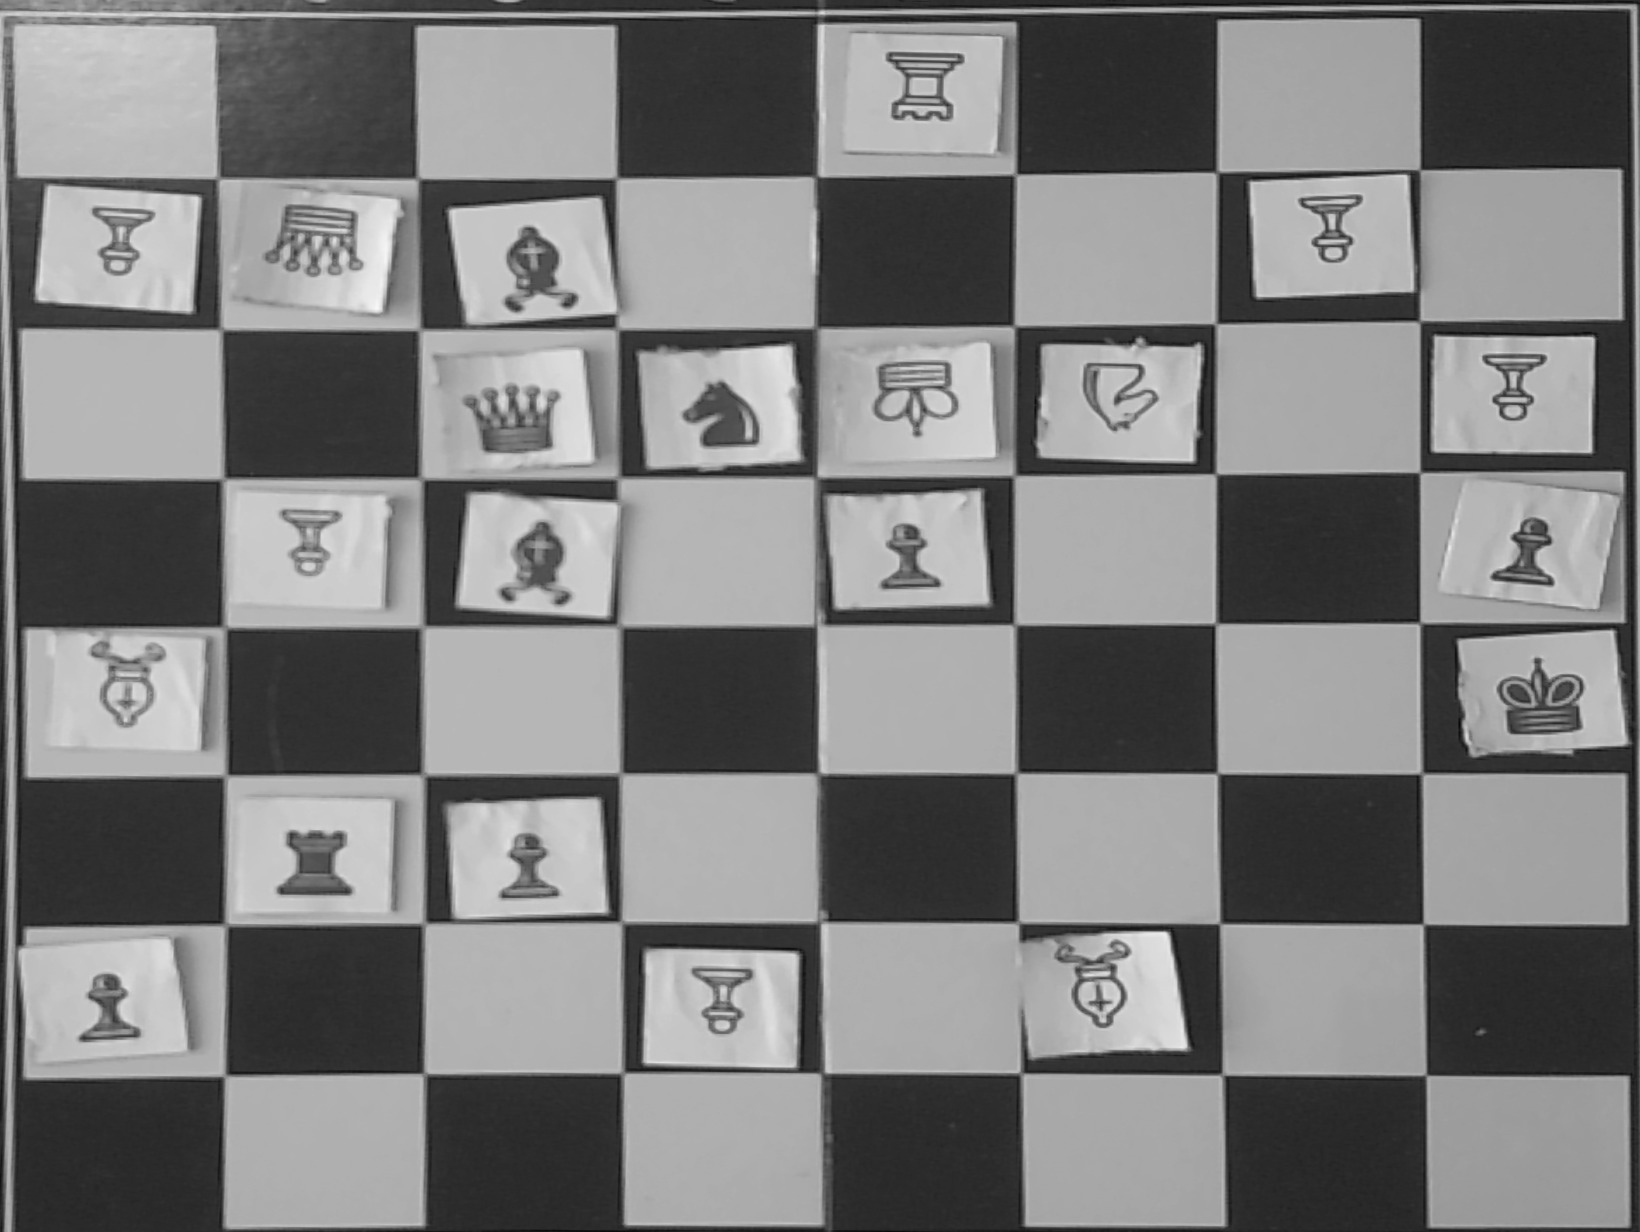b_bishop: (460, 500, 611, 607), (462, 214, 614, 318)
b_king: (1472, 650, 1602, 747)
b_knight: (651, 361, 779, 456)
b_pawn: (34, 945, 173, 1051), (457, 806, 597, 912), (839, 501, 979, 606)
b_queen: (441, 364, 585, 465)
b_rook: (245, 805, 381, 916)
w_bishop: (58, 638, 190, 747), (1032, 940, 1164, 1048)
w_king: (827, 347, 982, 452)
w_knight: (1046, 346, 1173, 454)
w_pawn: (238, 498, 371, 602), (658, 952, 791, 1056), (1439, 335, 1564, 436)
w_queen: (247, 194, 381, 295)
w_rook: (858, 31, 989, 137)
